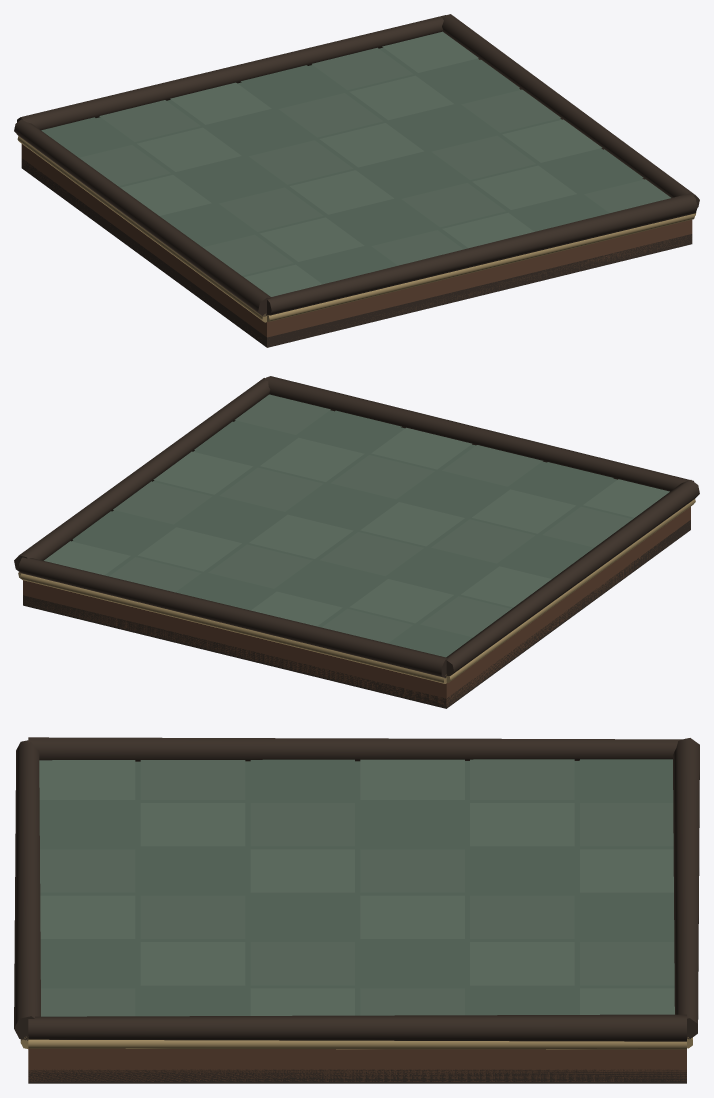
File: Roof_LegacyConnected.glb
The picture shows the model from 3 angles, top to bottom: view 1: azimuth 30°, elevation 25°; view 2: azimuth 150°, elevation 25°; view 3: azimuth 270°, elevation 25°; orthographic projection. The views are drawn at different scales.
Visible parts, largest first — view 1: _MeshInstance3D_4121, _MeshInstance3D_4166, _MeshInstance3D_4122, _MeshInstance3D_4160, _MeshInstance3D_4165, _MeshInstance3D_4169, _MeshInstance3D_4163, _MeshInstance3D_4168, _MeshInstance3D_4167, _MeshInstance3D_4131, _MeshInstance3D_4149, _MeshInstance3D_4136 (+34 smaller); view 2: _MeshInstance3D_4121, _MeshInstance3D_4159, _MeshInstance3D_4160, _MeshInstance3D_4166, _MeshInstance3D_4122, _MeshInstance3D_4169, _MeshInstance3D_4163, _MeshInstance3D_4168, _MeshInstance3D_4161, _MeshInstance3D_4136, _MeshInstance3D_4143, _MeshInstance3D_4130 (+34 smaller); view 3: _MeshInstance3D_4162, _MeshInstance3D_4121, _MeshInstance3D_4163, _MeshInstance3D_4169, _MeshInstance3D_4122, _MeshInstance3D_4160, _MeshInstance3D_4166, _MeshInstance3D_4164, _MeshInstance3D_4149, _MeshInstance3D_4151, _MeshInstance3D_4148, _MeshInstance3D_4150 (+32 smaller).
Boxes of the visible parts, left/top/right/bottom form: _MeshInstance3D_4121: left=77, top=47, right=643, bottom=284; _MeshInstance3D_4166: left=267, top=193, right=697, bottom=315; _MeshInstance3D_4122: left=21, top=158, right=692, bottom=347; _MeshInstance3D_4160: left=17, top=15, right=445, bottom=130; _MeshInstance3D_4165: left=267, top=219, right=692, bottom=337; _MeshInstance3D_4169: left=14, top=119, right=270, bottom=316; _MeshInstance3D_4163: left=442, top=14, right=699, bottom=207; _MeshInstance3D_4168: left=21, top=144, right=266, bottom=338; _MeshInstance3D_4167: left=267, top=213, right=694, bottom=321; _MeshInstance3D_4131: left=208, top=110, right=312, bottom=154; _MeshInstance3D_4149: left=330, top=200, right=434, bottom=244; _MeshInstance3D_4136: left=178, top=157, right=282, bottom=201; _MeshInstance3D_4121: left=72, top=410, right=634, bottom=644; _MeshInstance3D_4159: left=23, top=580, right=446, bottom=705; _MeshInstance3D_4160: left=19, top=557, right=448, bottom=678; _MeshInstance3D_4166: left=265, top=376, right=693, bottom=491; _MeshInstance3D_4122: left=23, top=520, right=690, bottom=708; _MeshInstance3D_4169: left=446, top=480, right=699, bottom=676; _MeshInstance3D_4163: left=14, top=378, right=270, bottom=571; _MeshInstance3D_4168: left=446, top=506, right=690, bottom=706; _MeshInstance3D_4161: left=20, top=573, right=446, bottom=683; _MeshInstance3D_4136: left=390, top=549, right=494, bottom=593; _MeshInstance3D_4143: left=360, top=502, right=464, bottom=546; _MeshInstance3D_4130: left=349, top=579, right=453, bottom=623; _MeshInstance3D_4162: left=28, top=1048, right=686, bottom=1081; _MeshInstance3D_4121: left=39, top=760, right=674, bottom=1016; _MeshInstance3D_4163: left=28, top=1014, right=686, bottom=1041; _MeshInstance3D_4169: left=28, top=737, right=681, bottom=761; _MeshInstance3D_4122: left=28, top=1069, right=686, bottom=1083; _MeshInstance3D_4160: left=673, top=738, right=699, bottom=1039; _MeshInstance3D_4166: left=14, top=740, right=40, bottom=1040; _MeshInstance3D_4164: left=28, top=1039, right=686, bottom=1049; _MeshInstance3D_4149: left=140, top=849, right=245, bottom=892; _MeshInstance3D_4151: left=140, top=942, right=245, bottom=985; _MeshInstance3D_4148: left=140, top=803, right=245, bottom=846; _MeshInstance3D_4150: left=140, top=895, right=245, bottom=938.
Bounding box in the file's own units: 3.13 × 0.34 × 3.12.
